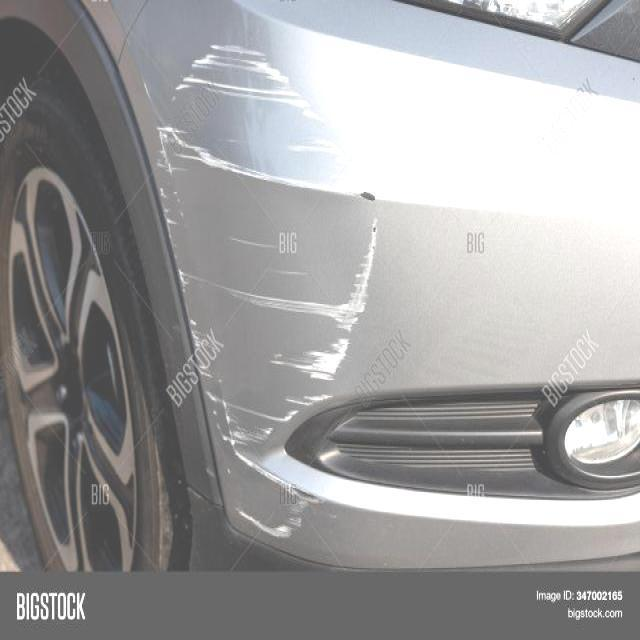minor: (173, 43, 362, 196)
moderate: (161, 131, 379, 571)
